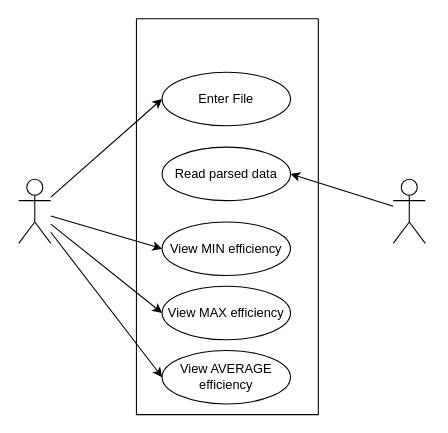
The diagram is 448 pixels wide and 433 high, and some of its shapes have lost their labels. Each missing label, with the box of its shape:
Program: (135, 18, 318, 415)
Thread: (392, 178, 425, 243)
User: (18, 178, 51, 243)
